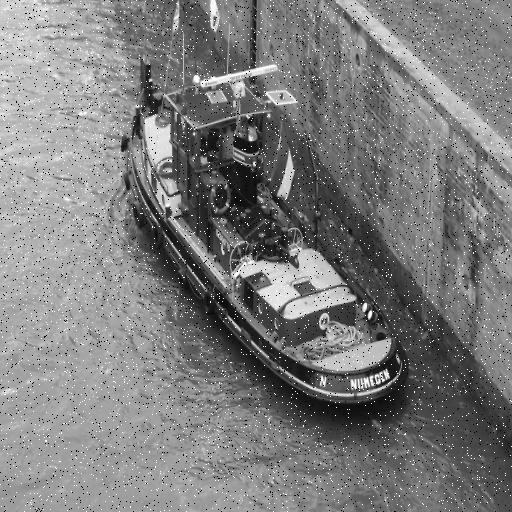tugboat: (120, 47, 413, 430)
